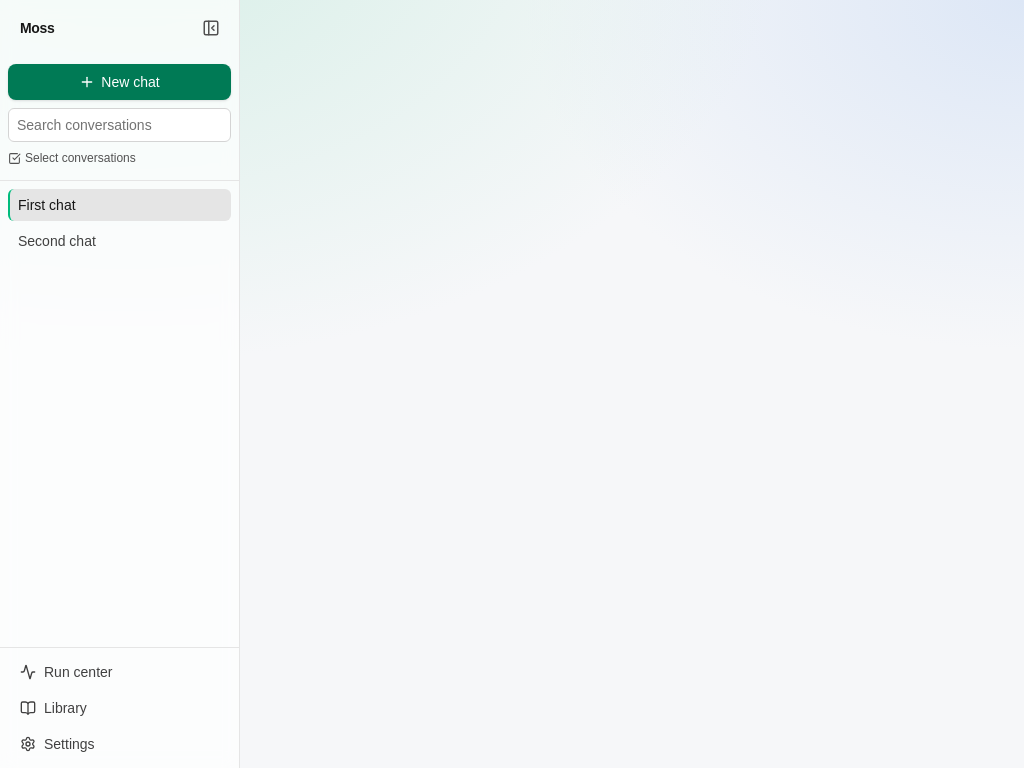
Sidebar › finds conversations by what was said, not only by title
Type "rotate" into the search field labelled "Search conversations". click: (120, 125)
box: [8,108,231,142]
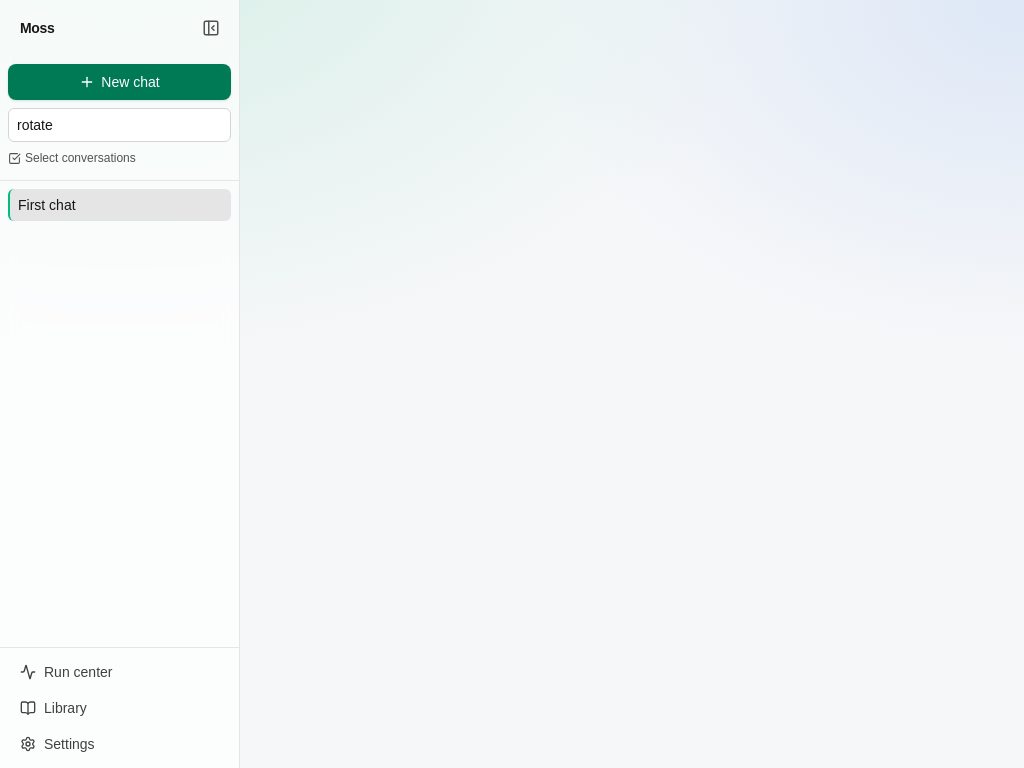
Expected: the button "First chat" is shown, [18,194,223,214]
Expected: the button "Second chat" is gone
